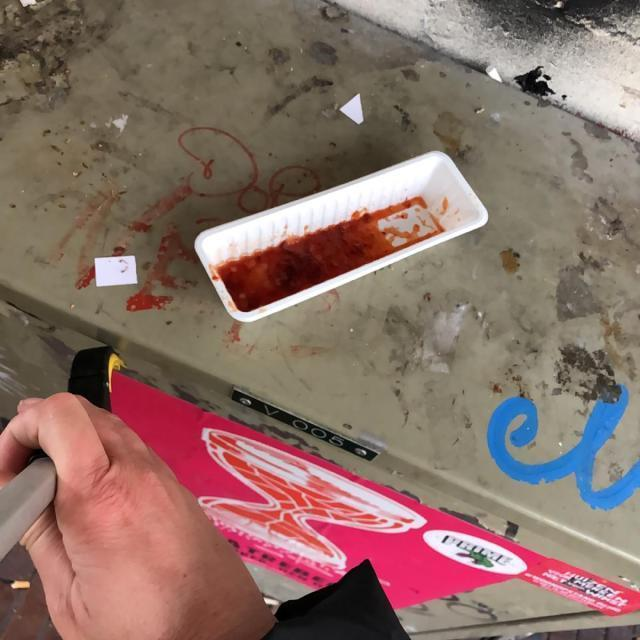Plastic: (192, 148, 489, 326)
